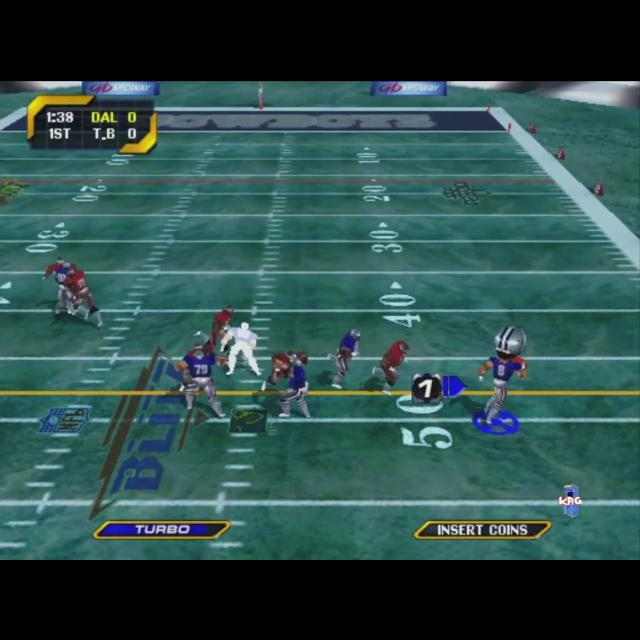player: (478, 326, 528, 422), (174, 344, 226, 418), (264, 349, 310, 417), (60, 266, 104, 326), (220, 320, 260, 376), (41, 256, 78, 316), (372, 338, 410, 394), (328, 328, 362, 388), (195, 304, 235, 354), (263, 346, 307, 390)
